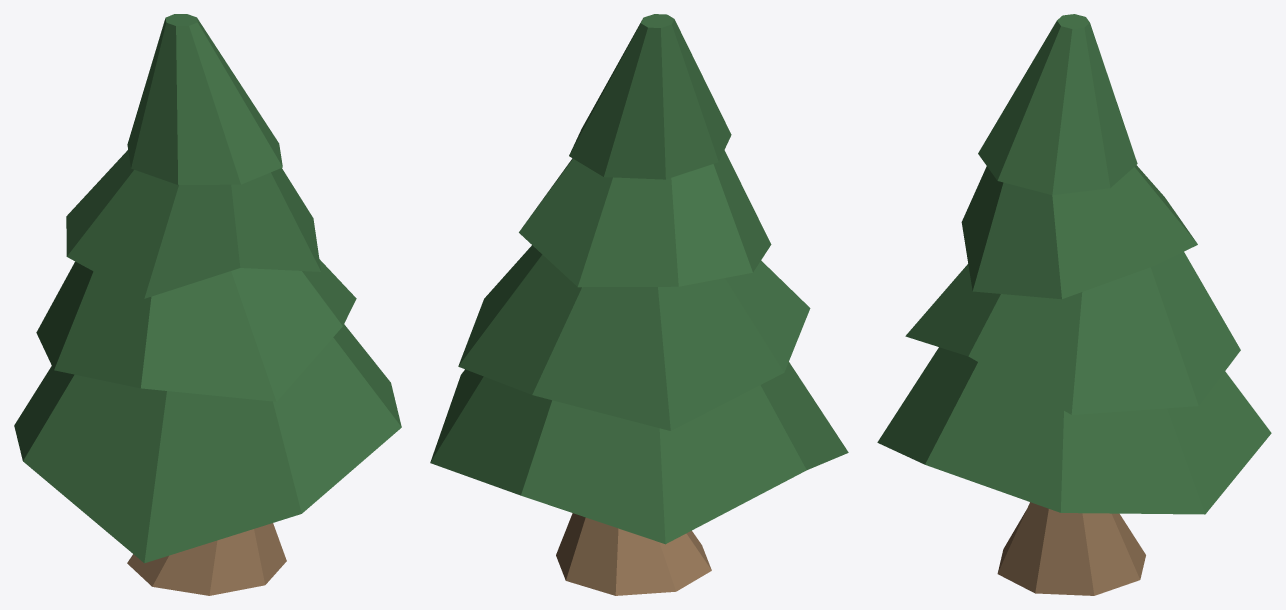
File: Tree_Mesh.fbx
3 renders of one model, left to right at view 1: azimuth 30°, elevation 25°; view 2: azimuth 150°, elevation 25°; view 3: azimuth 270°, elevation 25°, orthographic. The views are drawn at different scales.
Visible parts, largest first — view 1: Tree_Mesh; view 2: Tree_Mesh; view 3: Tree_Mesh.
Part boxes in pixels (x1,y1,x2,y2): Tree_Mesh: [14, 14, 401, 595]; Tree_Mesh: [430, 14, 848, 595]; Tree_Mesh: [877, 14, 1271, 595].
Bounding box in the file's own units: 399 × 587 × 394.
